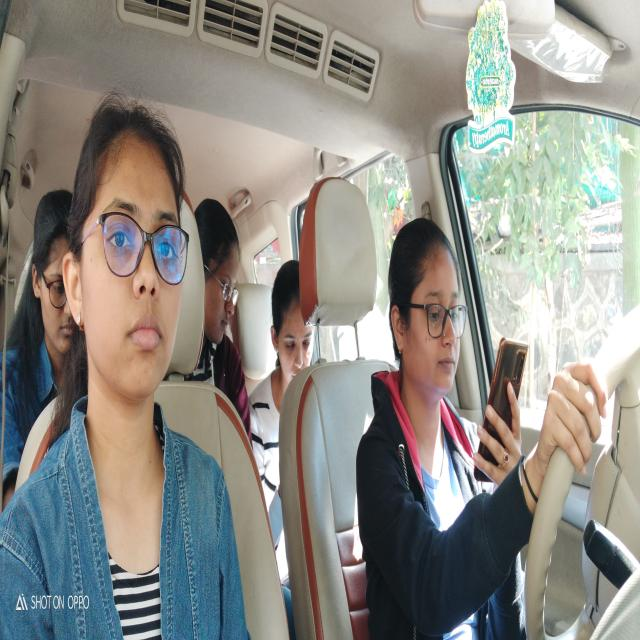mobile: (473, 331, 528, 493)
person: (72, 90, 188, 412), (387, 216, 471, 418), (30, 185, 82, 358), (196, 198, 243, 368), (270, 258, 318, 404)
